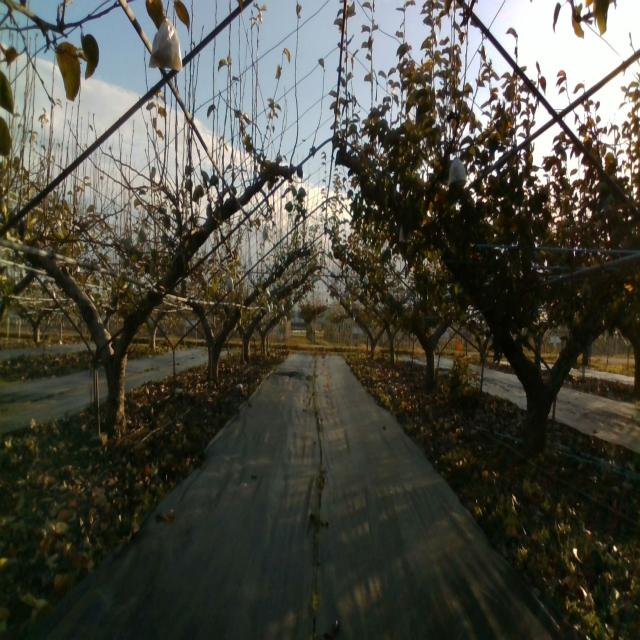pearbags: (148, 18, 183, 72), (448, 158, 467, 186)
